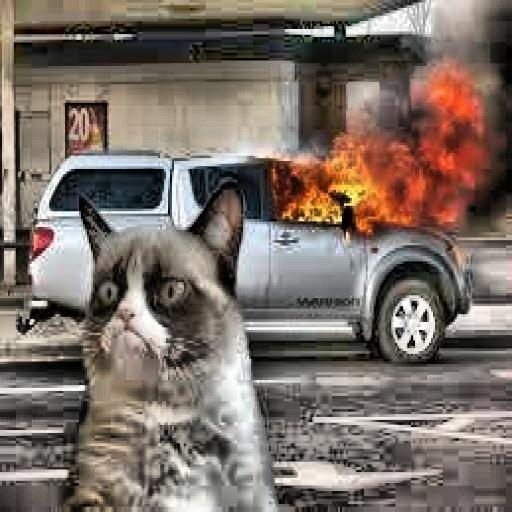fire: (275, 58, 486, 240)
